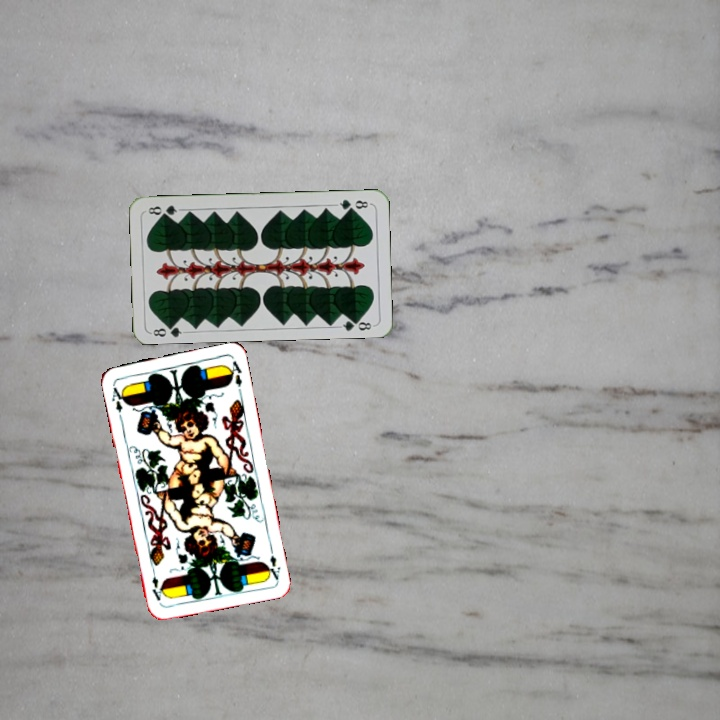EA: (262, 542, 283, 582), (107, 380, 128, 415)
G8: (147, 319, 188, 339), (332, 195, 373, 213)
